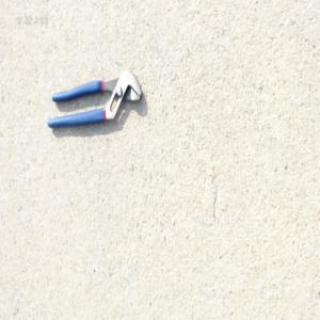Pliertrack_idkeyframe: (47, 67, 144, 130)
